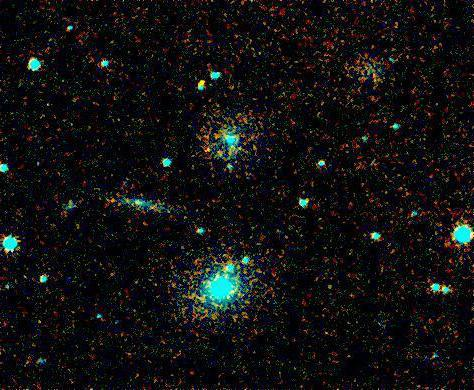star: (186, 66, 216, 96)
